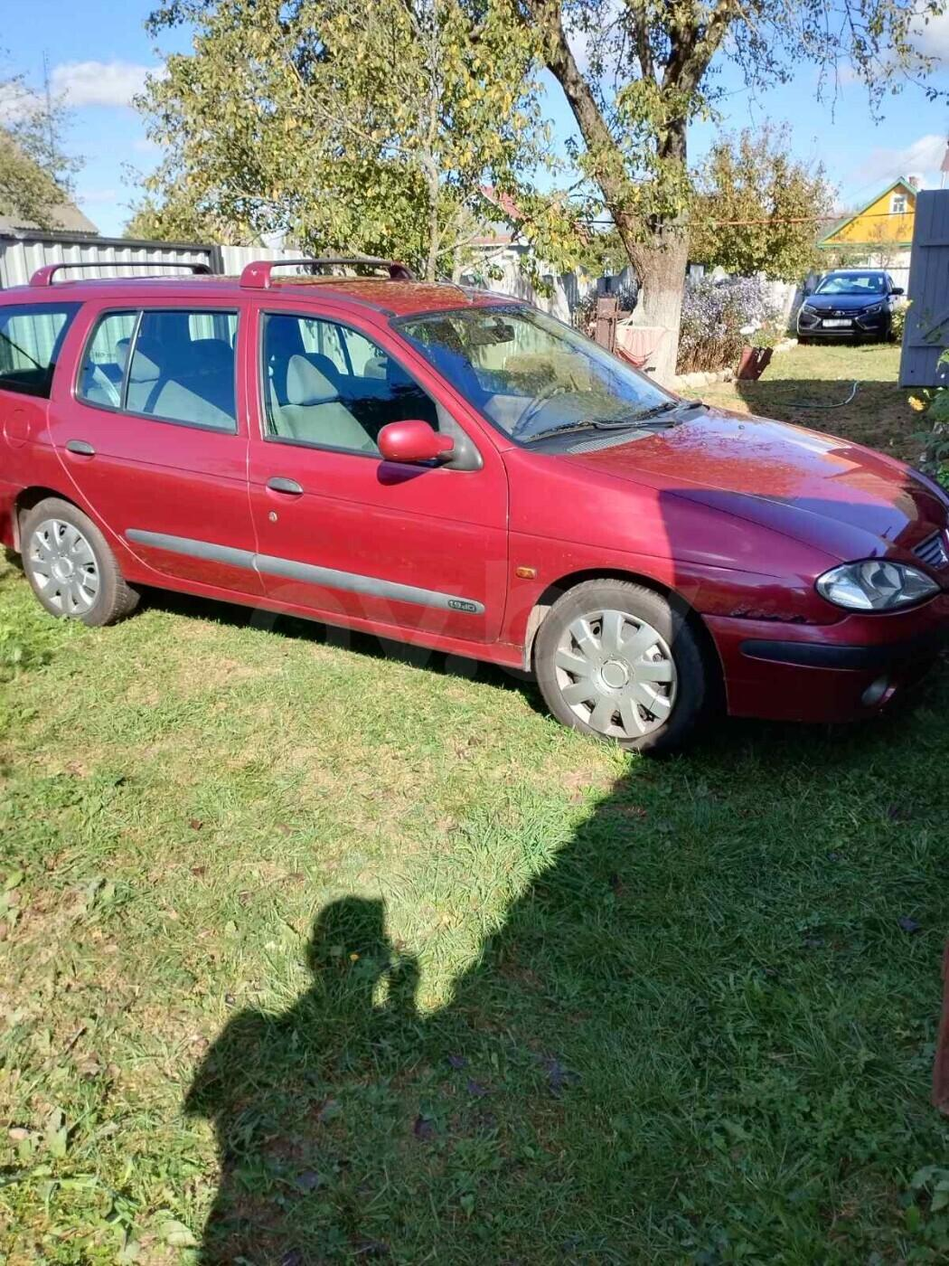Megane_1999-2003: (0, 268, 949, 756)
